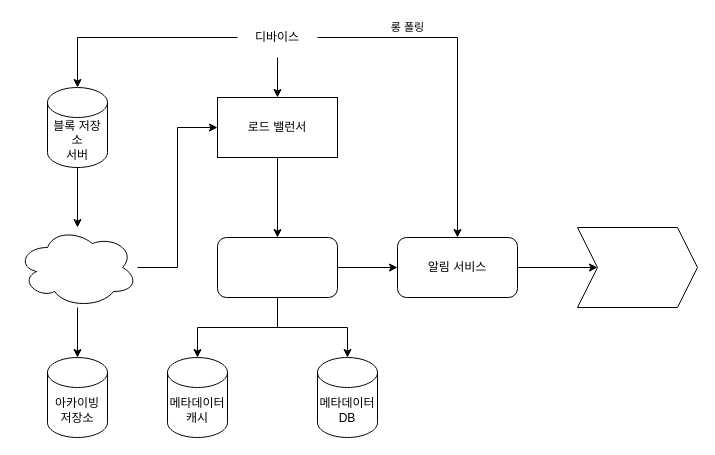
Some shapes in this 715 by 455 pixel diagram are drawn without their labels. Here are the shapes that lost their labels. From the top down, the box of each, then its label:
(16, 226, 138, 308): 클라우드 저장소
(216, 236, 338, 298): API 서버
(576, 226, 698, 308): 오프라인 사용자 백업 큐
